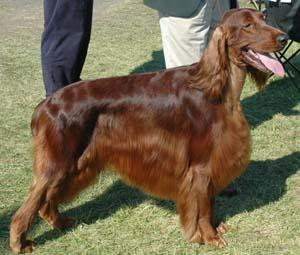Irish_setter: (5, 8, 291, 254)
